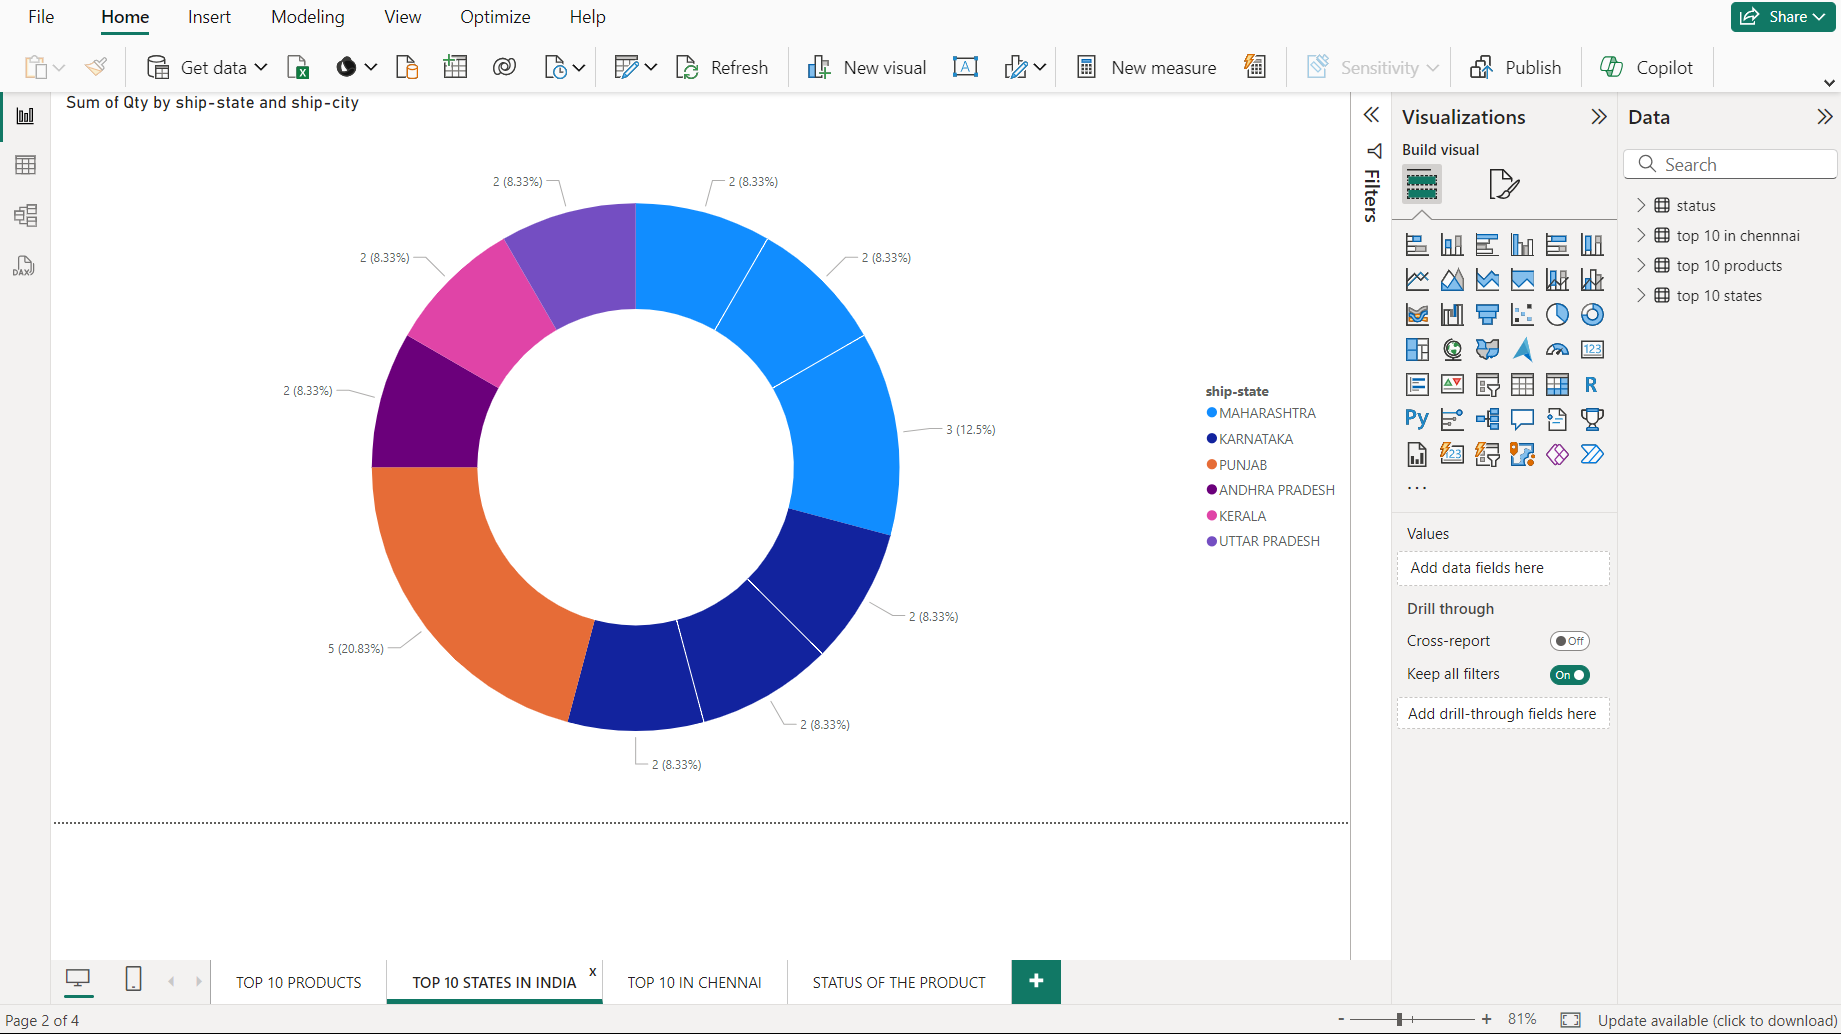

The dashboard page shown, as its layout file describes it:
{"tool":"powerbi","page":{"name":"TOP 10 STATES IN INDIA","canvas":[1280,720],"ordinal":1},"visuals":[{"type":"donutChart","fields":{"Category":["top 10 states.ship-state"],"Series":["top 10 states.ship-city"],"Y":["Sum(top 10 states.Qty)"]},"box":[9.9,0,1269.9,720.6],"z":0}]}

Visuals, with their boxes on the page's 1280x720 design canvas (x1, y1, x2, y2). These are canvas units, not pixel positions in the 1841x1034 screenshot, which may show the page scaled, cropped or inside an application window:
donutChart - top 10 states.ship-state x top 10 states.ship-city: {"left": 10, "top": 0, "right": 1280, "bottom": 721}
